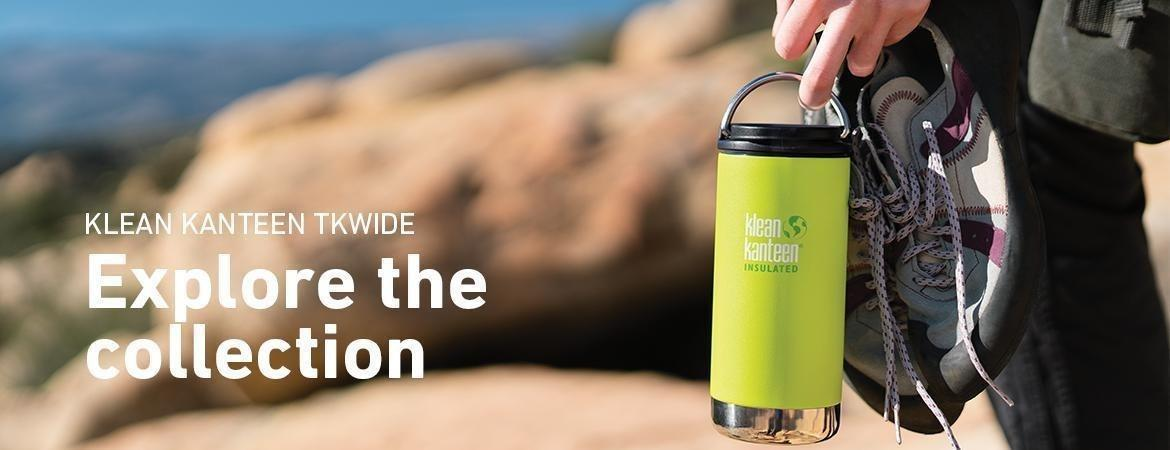gym bottle: (706, 70, 853, 447)
